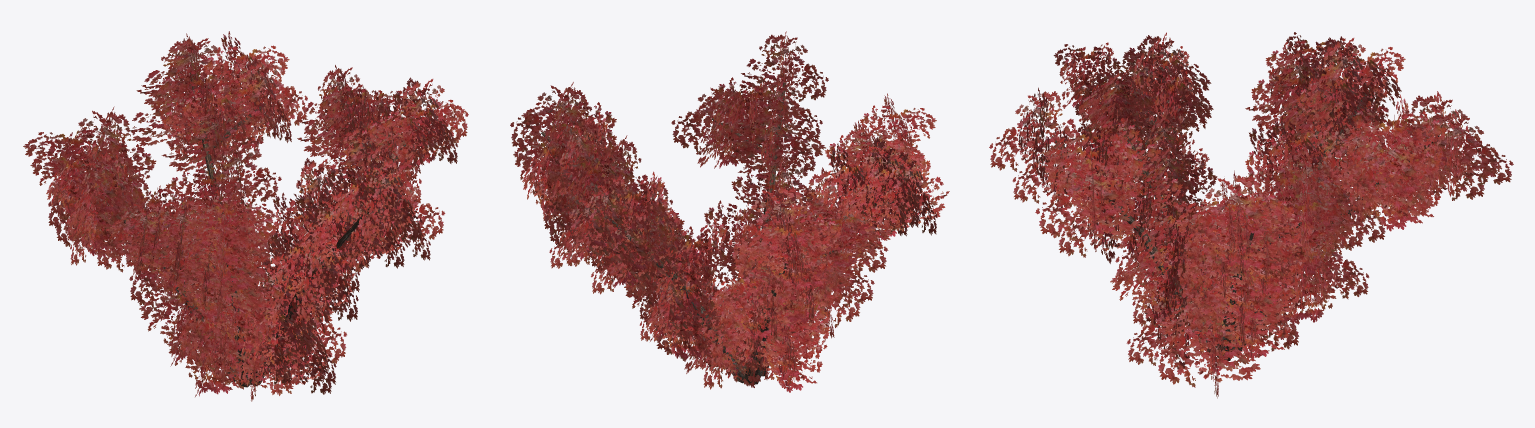
File: bush_3d_01_red_lod0.glb
The picture shows the model from 3 angles, left to right: view 1: azimuth 30°, elevation 25°; view 2: azimuth 150°, elevation 25°; view 3: azimuth 270°, elevation 25°; orthographic projection. The views are drawn at different scales.
Parts seen in each view (by area): view 1: foliage_cards, wood_geometry; view 2: foliage_cards, wood_geometry; view 3: foliage_cards, wood_geometry.
Part boxes in pixels (x1,y1,x2,y2): foliage_cards: (23,31,468,401); wood_geometry: (81,72,427,387); foliage_cards: (510,31,949,392); wood_geometry: (541,82,894,384); foliage_cards: (989,32,1513,398); wood_geometry: (1051,89,1439,360).
Bounding box in the file's own units: 2.02 × 1.29 × 2.12.
Materials: 2 (2 with a texture image).
